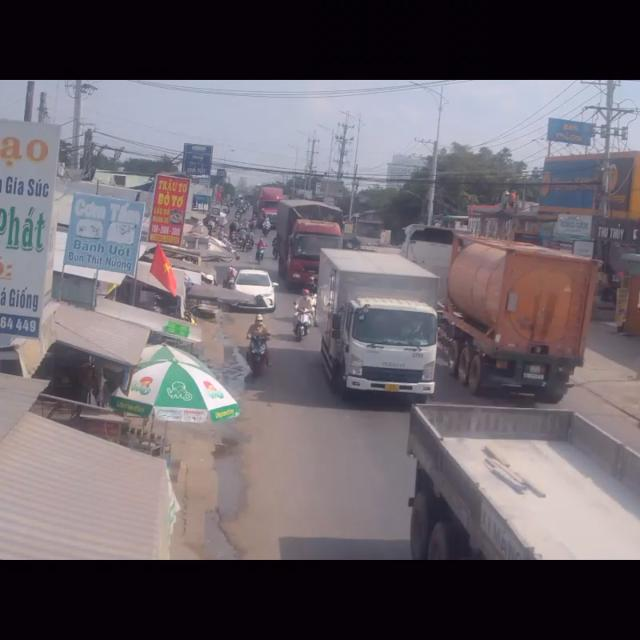motorbike: (245, 315, 270, 384), (292, 290, 310, 344)
truck: (405, 395, 640, 559), (432, 230, 600, 398), (320, 244, 439, 399)
